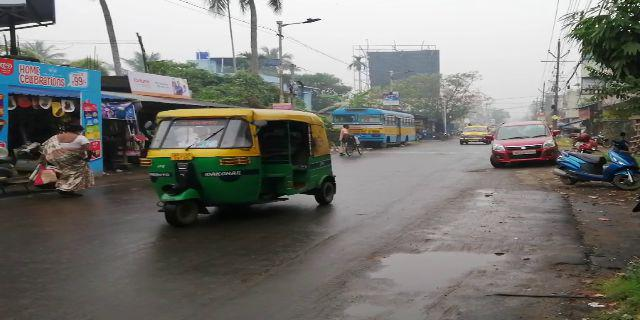Autorickshaw: (137, 110, 335, 221)
Car: (492, 120, 556, 165), (461, 126, 487, 147)
